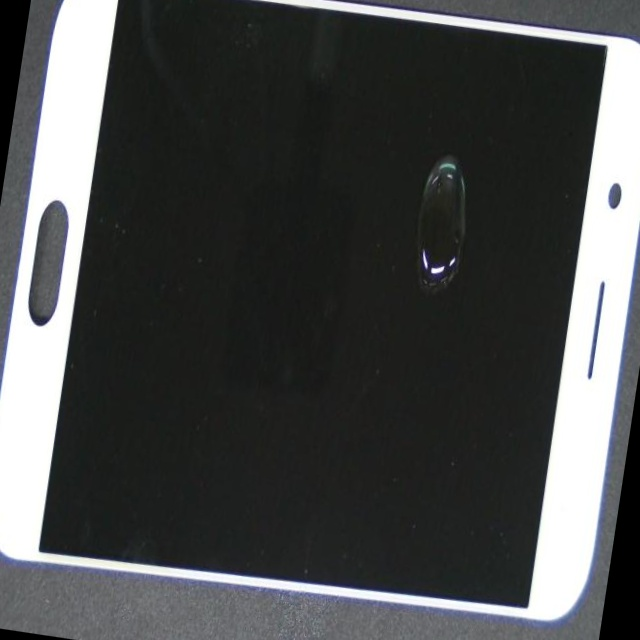oil: (217, 118, 640, 414)
